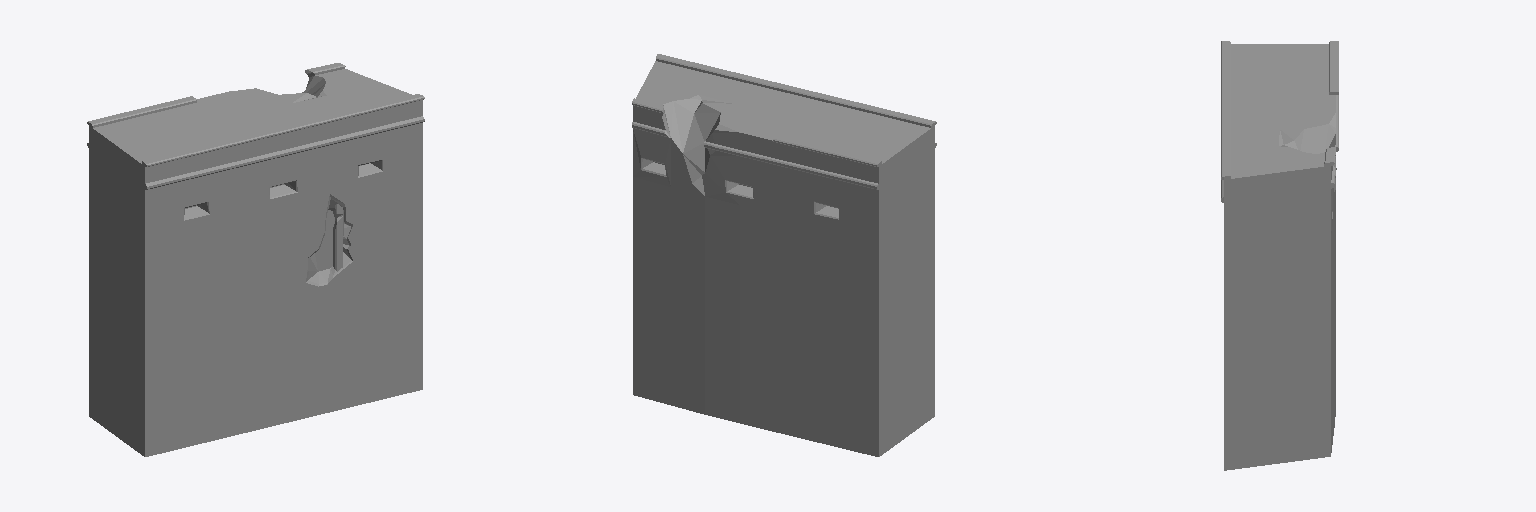
Rendered from msh_fort_wall_03.obj.
The picture shows the model from 3 angles: view 1: azimuth 30°, elevation 25°; view 2: azimuth 150°, elevation 25°; view 3: azimuth 270°, elevation 25°; orthographic projection.
Visible parts, largest first — view 1: msh_fort_wall_03_Cube.041; view 2: msh_fort_wall_03_Cube.041; view 3: msh_fort_wall_03_Cube.041.
Boxes of the visible parts, box(x1,y1,x2,y2) form: msh_fort_wall_03_Cube.041: box(87, 63, 424, 456); msh_fort_wall_03_Cube.041: box(632, 54, 936, 456); msh_fort_wall_03_Cube.041: box(1221, 41, 1338, 470).
Size of the model in its own units: 6 by 6.07 by 2.22.